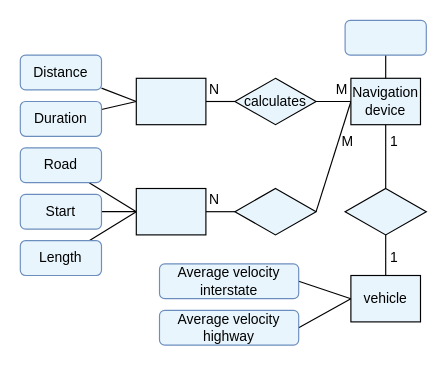
Image size: 447x365. Some labels were removed from this diagram. The shapes that lost their labels are listed below. From the top down, each one's centre as x and y in pixels, then its label:
At point 385,37: "Identification".
At point 170,101: "Route".
At point 170,211: "Traffic jam information".
At point 275,211: "queries".
At point 385,211: "belongs to".
